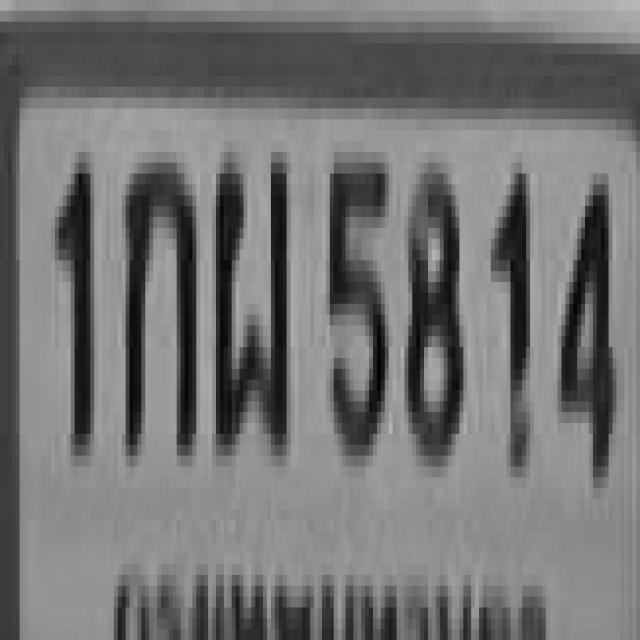1: (487, 163, 526, 466), (51, 152, 90, 445)
10GorGai: (122, 152, 192, 445)
37PhorPhueng: (212, 147, 287, 450)
4: (558, 168, 612, 472)
5: (326, 152, 385, 445)
8: (404, 152, 460, 455)
